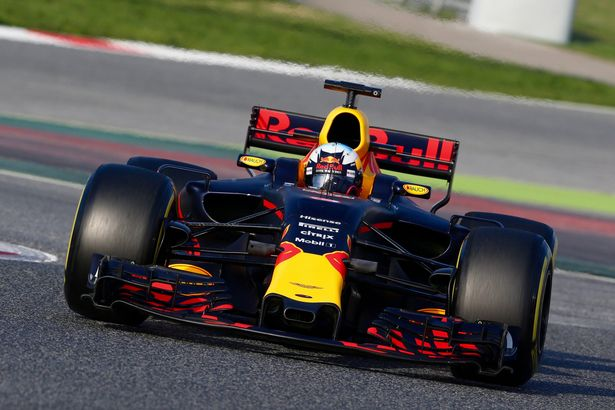f1_car: (57, 71, 562, 396)
